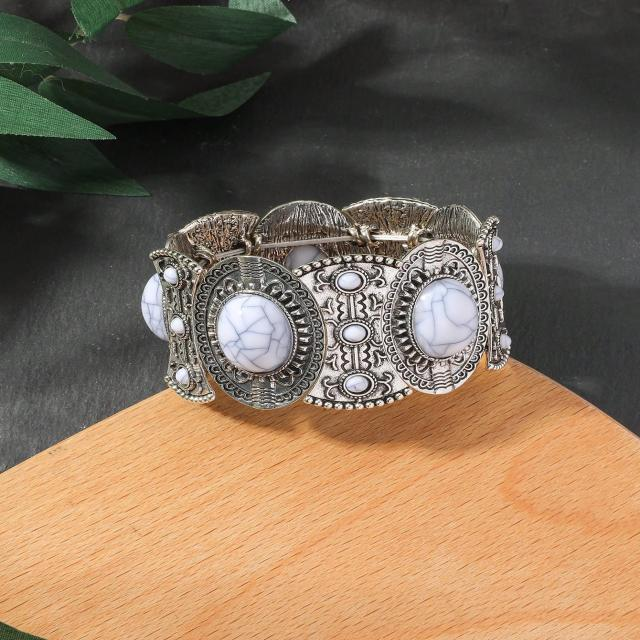bracelet: (92, 147, 598, 460)
